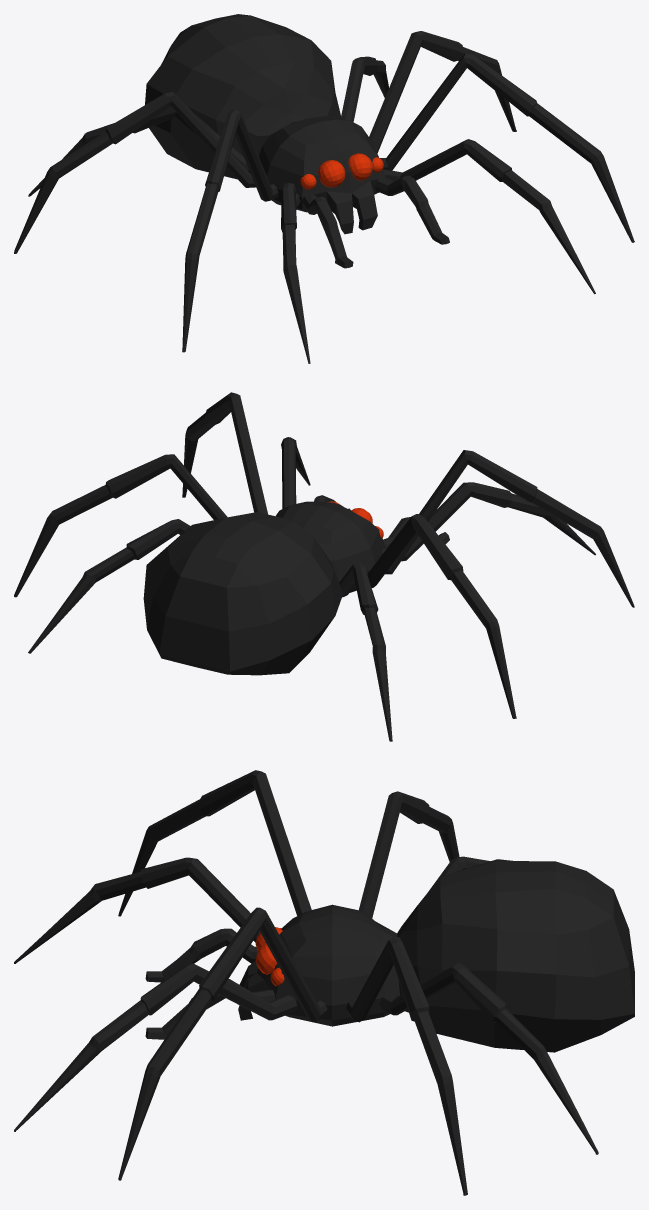
File: Spider simple.fbx
The picture shows the model from 3 angles, top to bottom: view 1: azimuth 30°, elevation 25°; view 2: azimuth 150°, elevation 25°; view 3: azimuth 270°, elevation 25°; orthographic projection. The views are drawn at different scales.
Parts seen in each view (by area): view 1: Cube; view 2: Cube; view 3: Cube.
Part boxes in pixels (x1=…): Cube: x1=14, y1=14, x2=634, y2=363; Cube: x1=14, y1=392, x2=634, y2=741; Cube: x1=14, y1=770, x2=634, y2=1195.
Bounding box in the file's own units: 594 × 195 × 527.
Materials: 1 (1 with a texture image).
